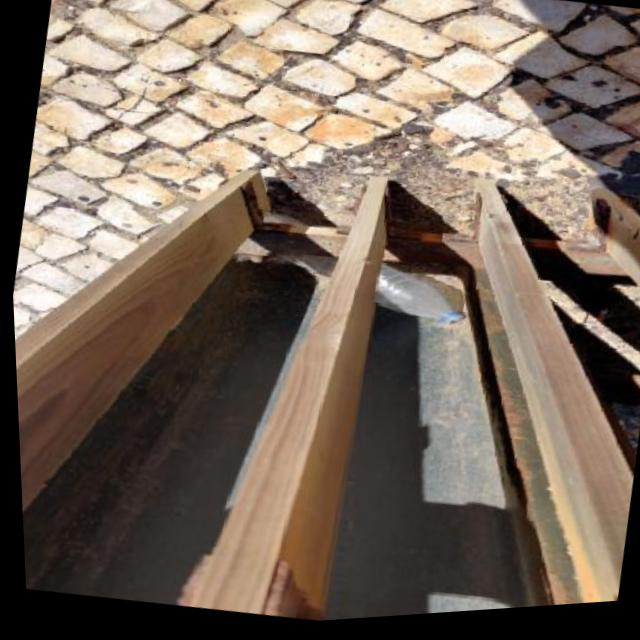plastic: (243, 197, 479, 339)
